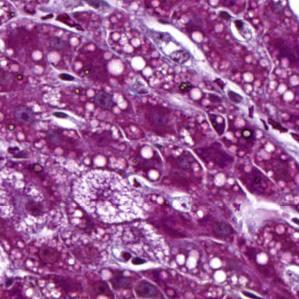ballooning: (69, 168, 148, 228)
